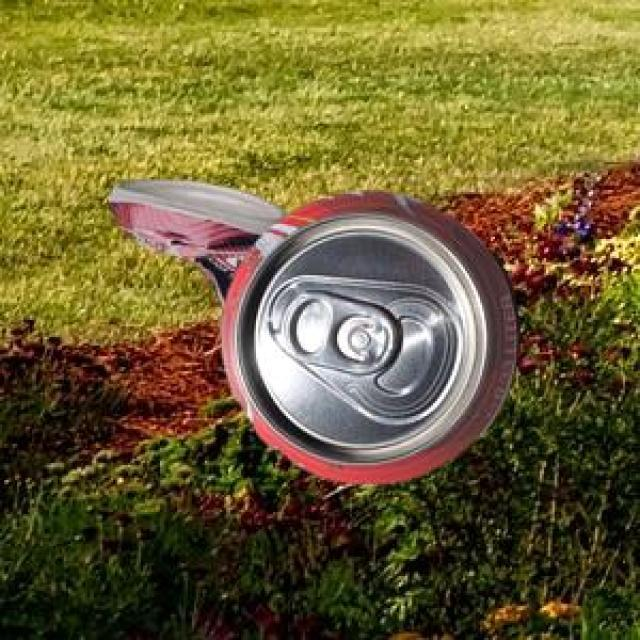Can: (219, 187, 517, 481), (106, 176, 283, 308)
